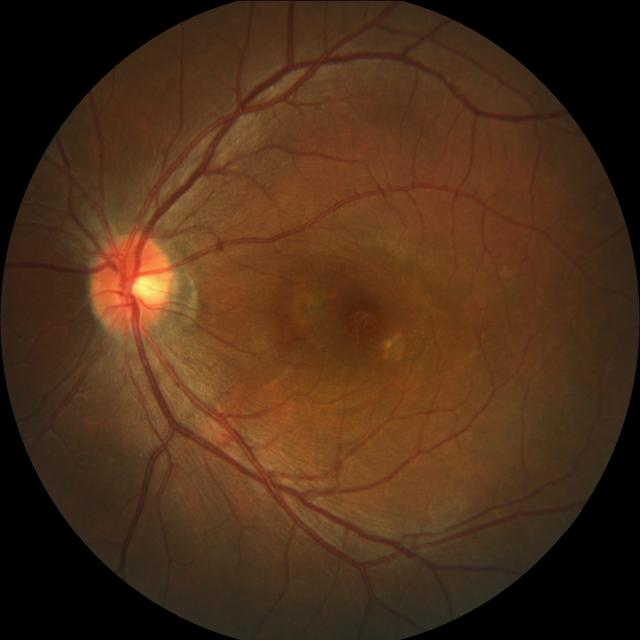OC: (116, 263, 160, 309)
OD: (88, 232, 172, 333)
